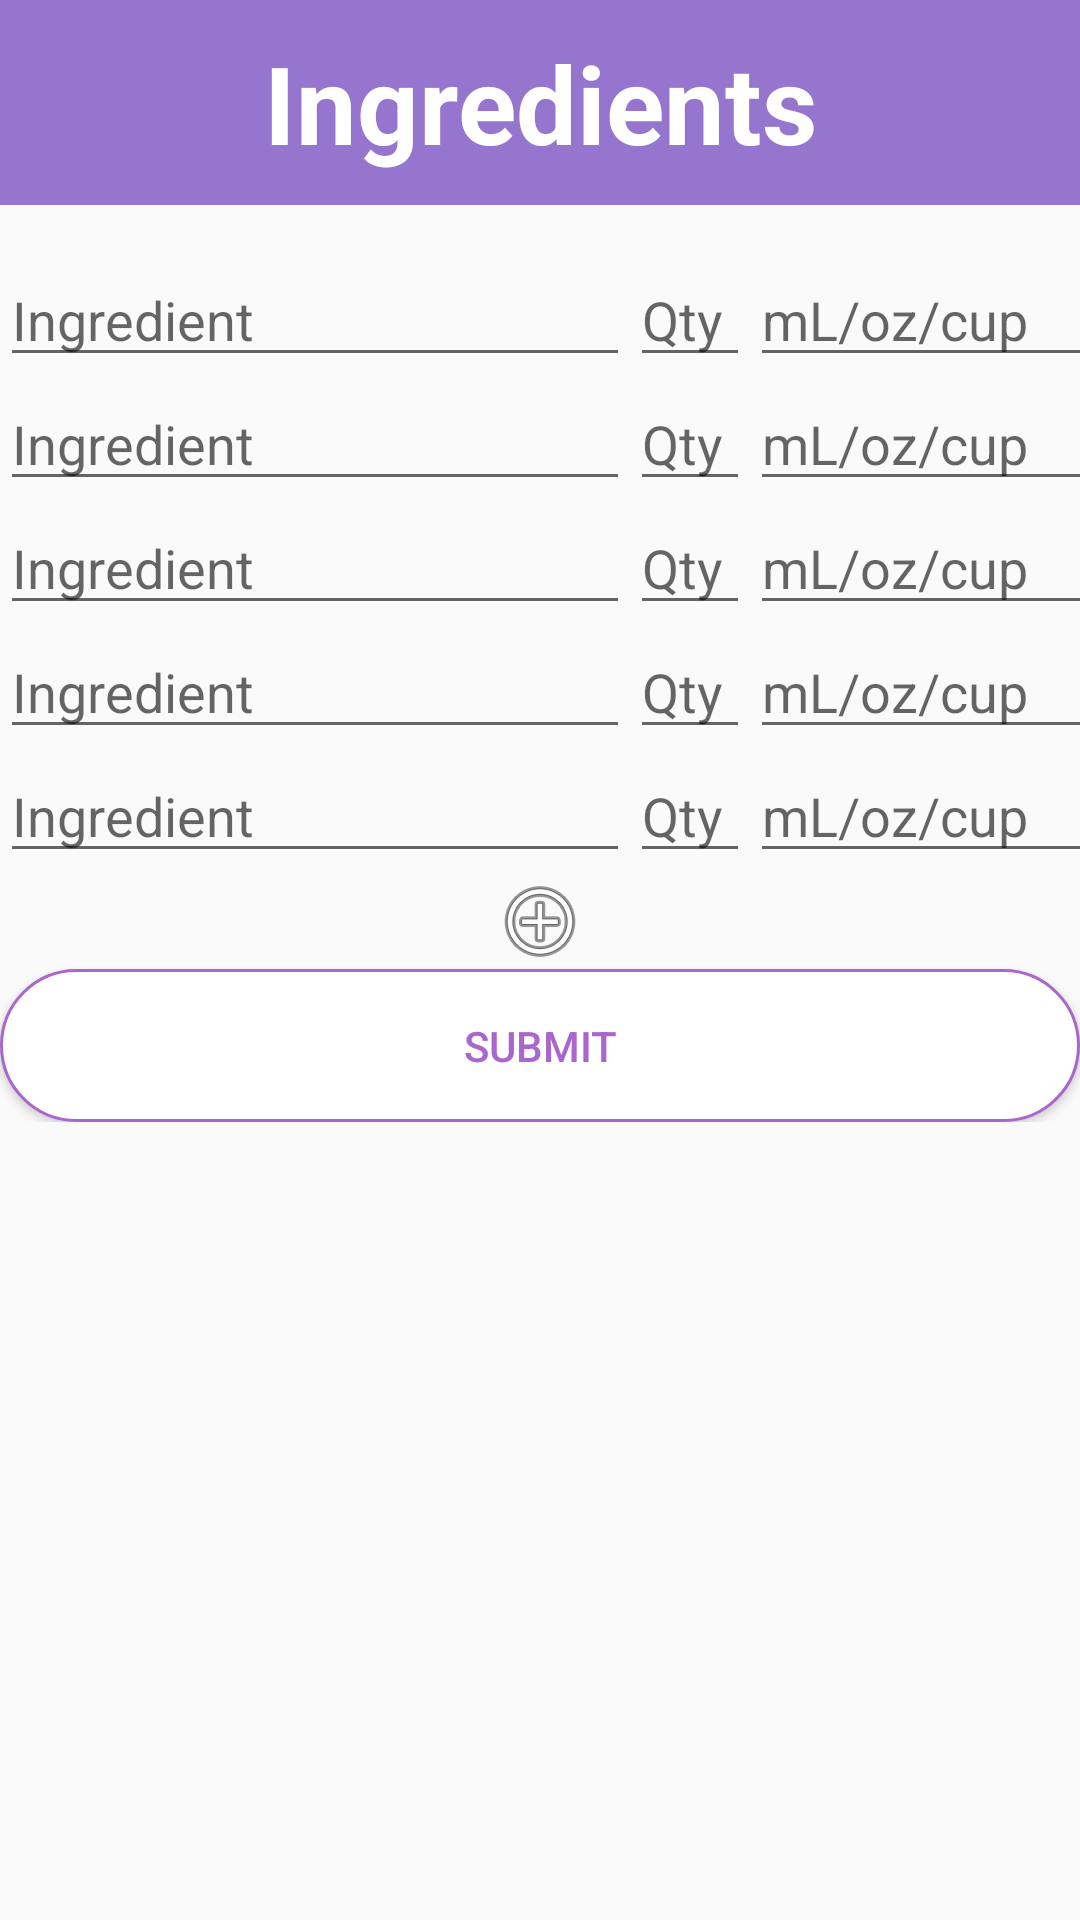

Where to tap for icons on this 1080 × 1920 app screen, as [x,y]:
add: [540,921]
